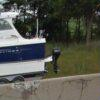Boat: (1, 9, 56, 85)
